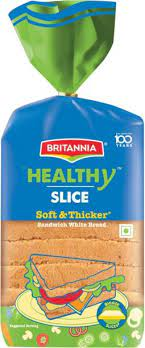bread: (2, 4, 145, 348)
